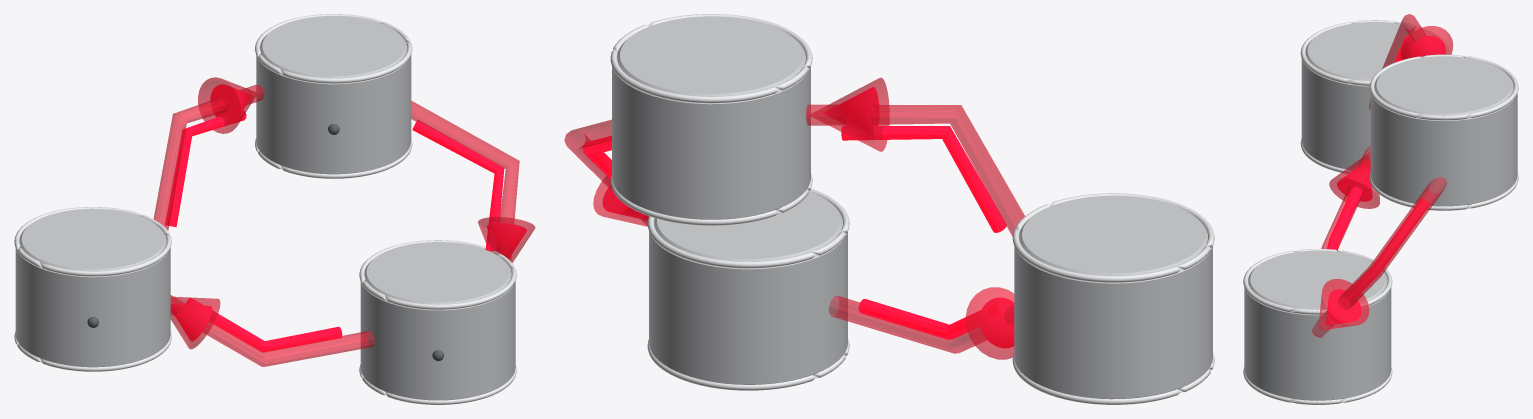
The model's file is 12-data-pipeline.glb.
3 renders of one model, left to right at view 1: azimuth 30°, elevation 25°; view 2: azimuth 150°, elevation 25°; view 3: azimuth 270°, elevation 25°, orthographic. The views are drawn at different scales.
Visible parts, largest first — view 1: BC satin iron, BC ruby optical glass, BC internal ruby light, BC polished iron bevel; view 2: BC satin iron, BC ruby optical glass, BC polished iron bevel, BC internal ruby light; view 3: BC satin iron, BC ruby optical glass, BC polished iron bevel, BC internal ruby light.
Boxes of the visible parts, left/top/right/bottom form: BC satin iron: left=15, top=16, right=515, bottom=400; BC ruby optical glass: left=153, top=77, right=535, bottom=366; BC internal ruby light: left=165, top=84, right=526, bottom=352; BC polished iron bevel: left=14, top=14, right=516, bottom=404; BC satin iron: left=612, top=16, right=1212, bottom=399; BC ruby optical glass: left=564, top=77, right=1024, bottom=359; BC polished iron bevel: left=610, top=14, right=1214, bottom=404; BC internal ruby light: left=582, top=87, right=1014, bottom=348; BC satin iron: left=1244, top=22, right=1517, bottom=400; BC ruby optical glass: left=1312, top=14, right=1453, bottom=337; BC polished iron bevel: left=1243, top=20, right=1518, bottom=404; BC internal ruby light: left=1326, top=35, right=1445, bottom=325.
Bounding box in the file's own units: 2.36 × 1.32 × 1.2.
